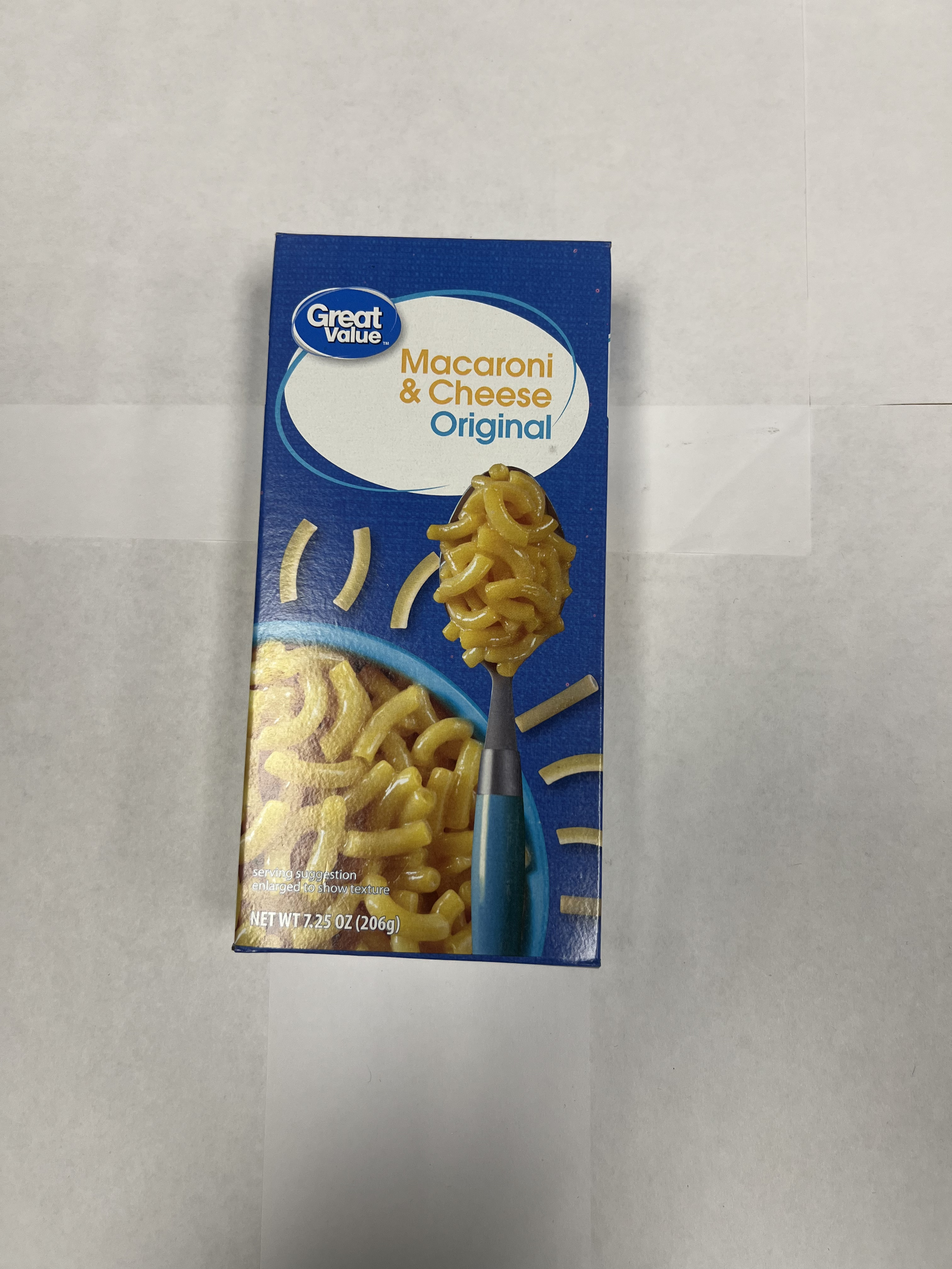packaged: (232, 226, 617, 974)
